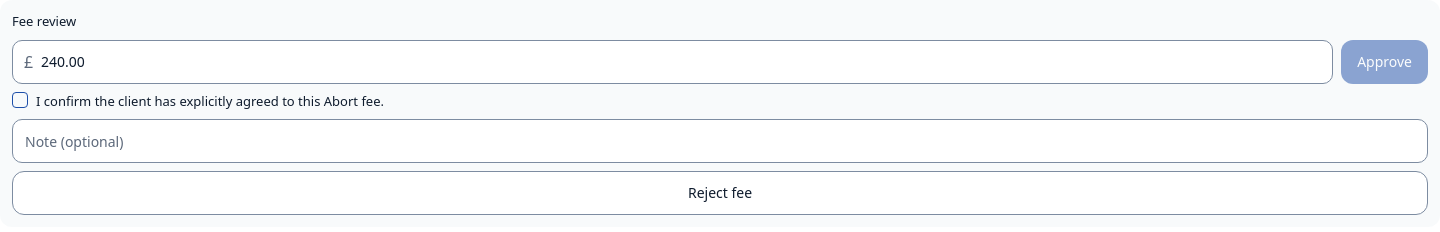
Abort fee-review lock › submits the proposed fee once from the pending review form
Later steps or results of the test are not shown.
Check: the button "Approve" is disabled, box [1341, 40, 1428, 84]
Click the checkbox named "I confirm the client agreed to this Abort fee" at (20, 100), box [12, 92, 28, 108]
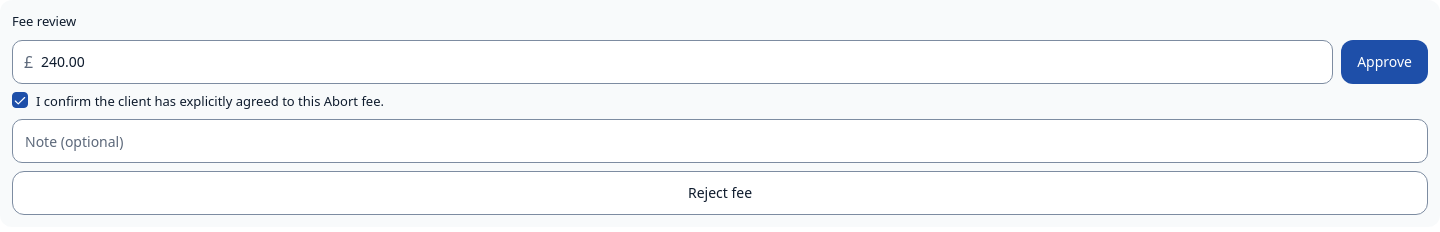
Check: the button "Approve" is enabled, box [1341, 40, 1428, 84]
